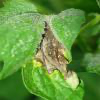Tomato leaf late blight: (2, 4, 89, 98)
